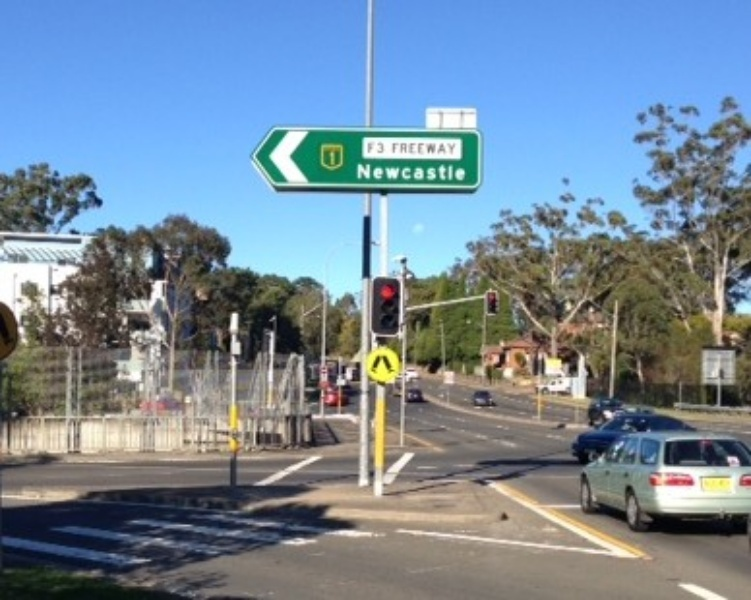text: (369, 163, 384, 182), (385, 163, 400, 182), (401, 163, 416, 182), (417, 163, 432, 182), (433, 163, 448, 182), (449, 163, 464, 182), (355, 163, 368, 182), (369, 140, 384, 155), (401, 142, 416, 155), (417, 142, 432, 155), (433, 142, 448, 155), (391, 142, 400, 155), (449, 142, 457, 155), (385, 140, 388, 155), (465, 163, 467, 182), (366, 140, 368, 155)
